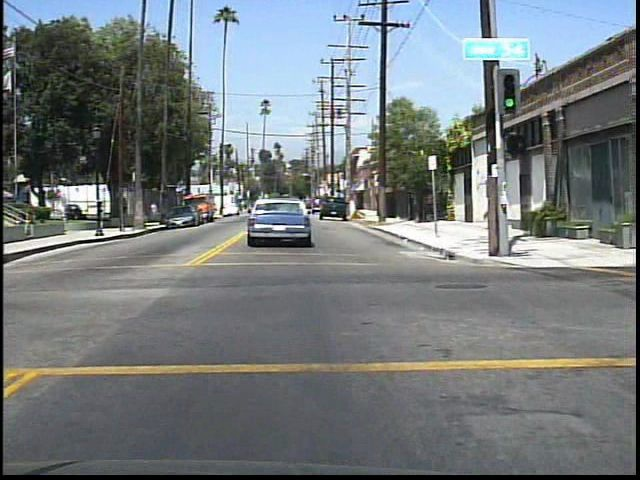person: (150, 202, 164, 227), (119, 194, 131, 217), (96, 197, 106, 220)
